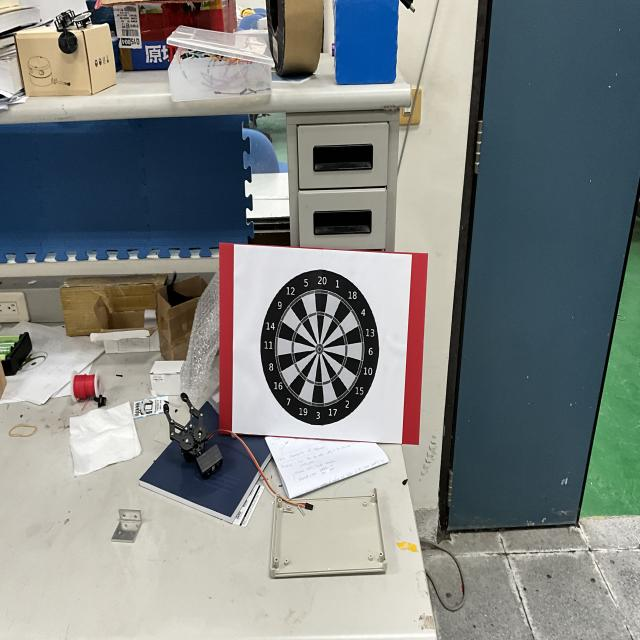archery-targets: (259, 268, 381, 426)
